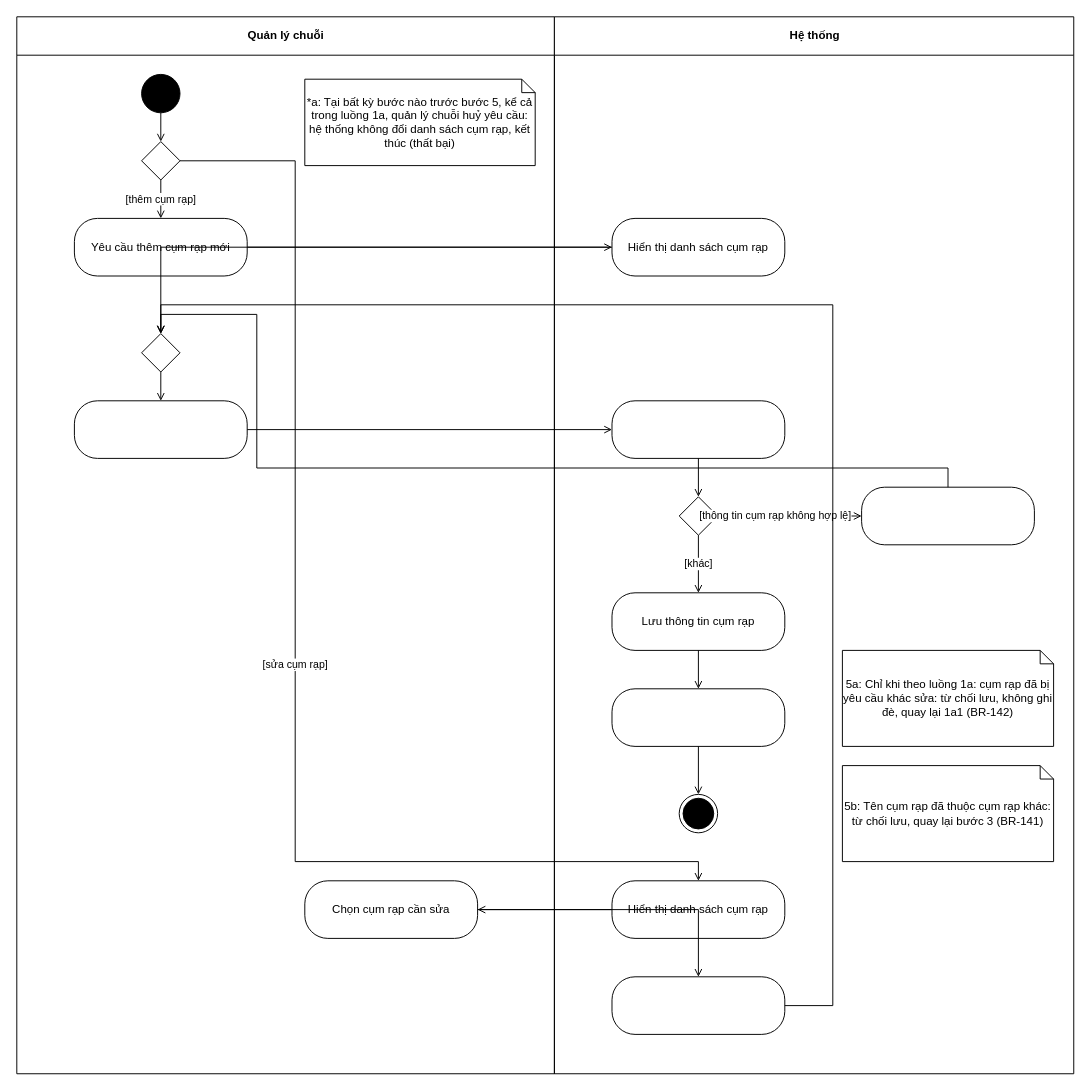
Image size: 1091x1091. Some labels were removed from this diagram. The centre of each missing label's shape, as x and y in pixels:
"Hiển thị thông tin hiện tại của cụm rạp" belongs at (698,1005).
"Kiểm tra thông tin cụm rạp hợp lệ" belongs at (698,429).
"Nhập thông tin cụm rạp và gửi" belongs at (160,429).
"Thông báo lưu cụm rạp thành công" belongs at (698,717).
"Từ chối: thông tin cụm rạp không hợp lệ" belongs at (947,515).
